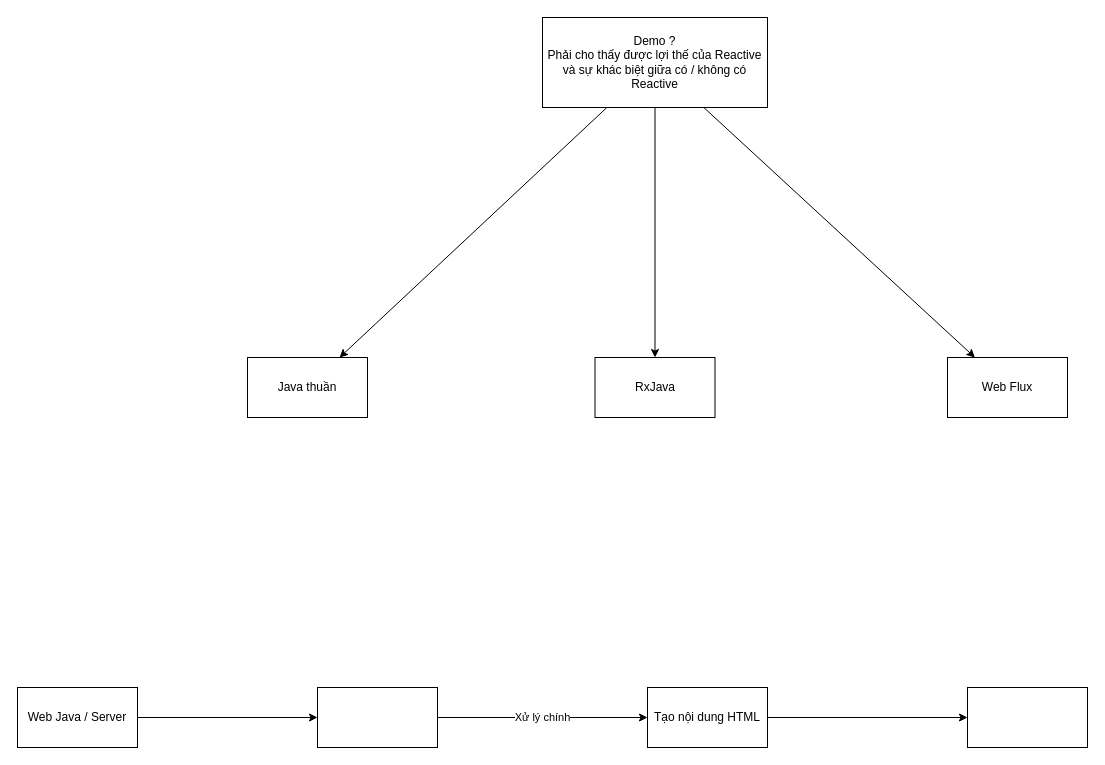
This 1105x765 diagram has some shape labels left out. The shapes that lost their labels are listed below. From the top down, each one's box as (x1, y1, x2, y2) in pixels, then its label:
(316, 686, 438, 748): Biên dịch mã nguồn Java
(966, 686, 1088, 748): Client
